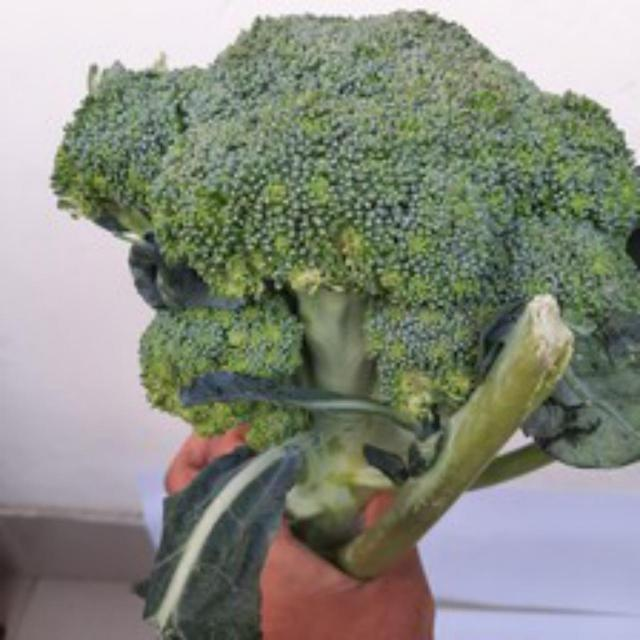broccoli: (51, 0, 637, 557)
